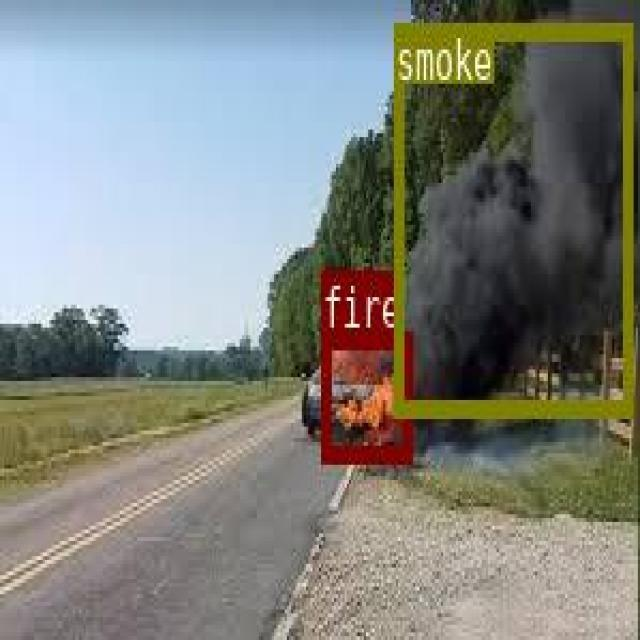fire: (320, 328, 409, 460)
smoke: (392, 22, 629, 412)
